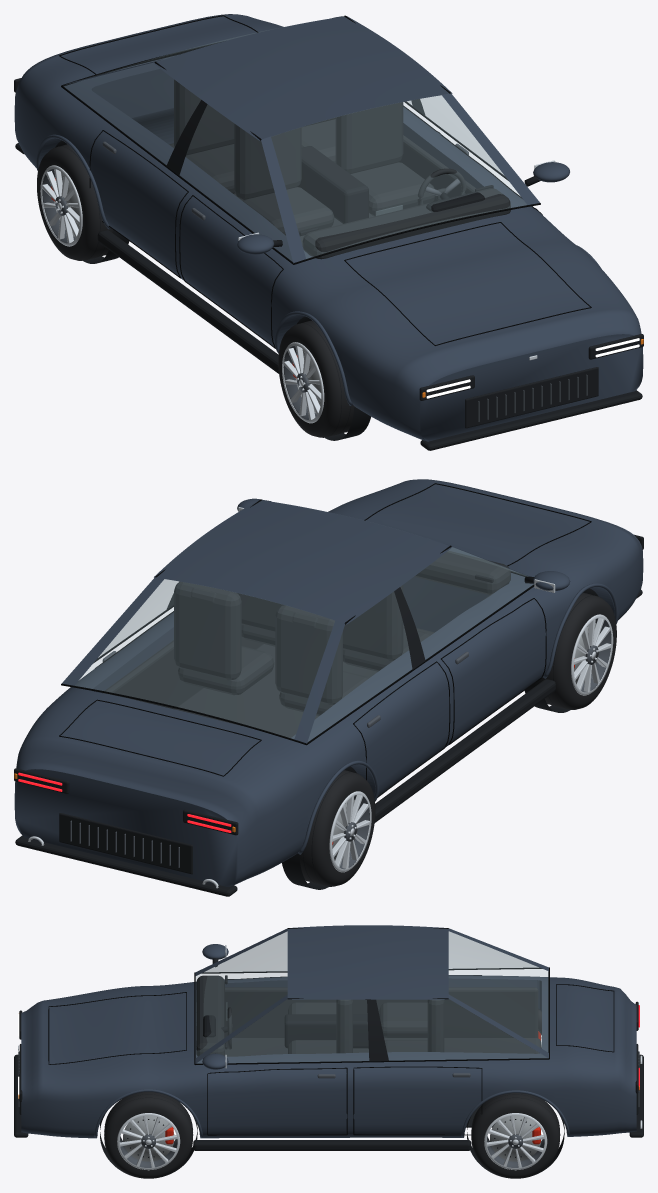
The model's file is executive.glb.
3 renders of one model, top to bottom at view 1: azimuth 30°, elevation 25°; view 2: azimuth 150°, elevation 25°; view 3: azimuth 270°, elevation 25°, orthographic. The views are drawn at different scales.
Parts seen in each view (by area): view 1: Sculpted body shell.010, Windshield.010, Painted roof.010, Side glass.020, Interior dashboard.010, Interior seat back.031, Front grille housing.010, Tire.042, Interior seat back.030, Rocker aero sill.020, Tire.040, Interior centre console.010 (+21 smaller); view 2: Sculpted body shell.010, Rear glass.010, Painted roof.010, Side glass.020, Interior seat back.033, Interior seat back.032, Interior cabin floor.010, Rear diffuser grille.010, Tire.040, Rocker aero sill.020, Tire.042, Interior door card.021 (+23 smaller); view 3: Sculpted body shell.010, Side glass.021, Painted roof.010, Interior door card.020, Rear glass.010, Windshield.010, Tire.043, Tire.041, Side glass.020, Rocker aero sill.021, Interior cabin floor.010, Interior centre console.010 (+27 smaller).
Boxes of the visible parts, x1,y1,x2,y2 form: Sculpted body shell.010: [14, 14, 643, 441]; Windshield.010: [271, 95, 526, 258]; Painted roof.010: [161, 17, 444, 137]; Side glass.020: [63, 63, 292, 261]; Interior dashboard.010: [302, 188, 510, 259]; Interior seat back.031: [335, 102, 403, 173]; Front grille housing.010: [465, 367, 598, 428]; Tire.042: [278, 320, 354, 437]; Interior seat back.030: [234, 123, 301, 199]; Rocker aero sill.020: [97, 230, 278, 373]; Tire.040: [37, 144, 112, 260]; Interior centre console.010: [297, 146, 368, 223]; Sculpted body shell.010: [14, 479, 643, 886]; Rear glass.010: [75, 579, 334, 738]; Painted roof.010: [162, 501, 444, 621]; Side glass.020: [308, 547, 533, 741]; Interior seat back.033: [174, 581, 241, 680]; Interior seat back.032: [275, 605, 342, 704]; Interior cabin floor.010: [174, 625, 434, 737]; Rear diffuser grille.010: [59, 813, 192, 874]; Tire.040: [299, 770, 375, 886]; Rocker aero sill.020: [374, 679, 555, 822]; Tire.042: [541, 592, 616, 709]; Interior door card.021: [102, 637, 263, 709]; Sculpted body shell.010: [21, 975, 636, 1138]; Side glass.021: [197, 1000, 546, 1063]; Painted roof.010: [287, 925, 448, 998]; Interior door card.020: [225, 987, 538, 1037]; Rear glass.010: [449, 932, 548, 1051]; Windshield.010: [196, 932, 287, 1057]; Tire.043: [104, 1092, 193, 1178]; Tire.041: [471, 1093, 560, 1178]; Side glass.020: [206, 932, 538, 971]; Rocker aero sill.021: [193, 1140, 471, 1150]; Interior cabin floor.010: [224, 1038, 541, 1056]; Interior centre console.010: [284, 1014, 368, 1048].
Size of the model in its own units: 2.4 by 1.59 by 5.24.
